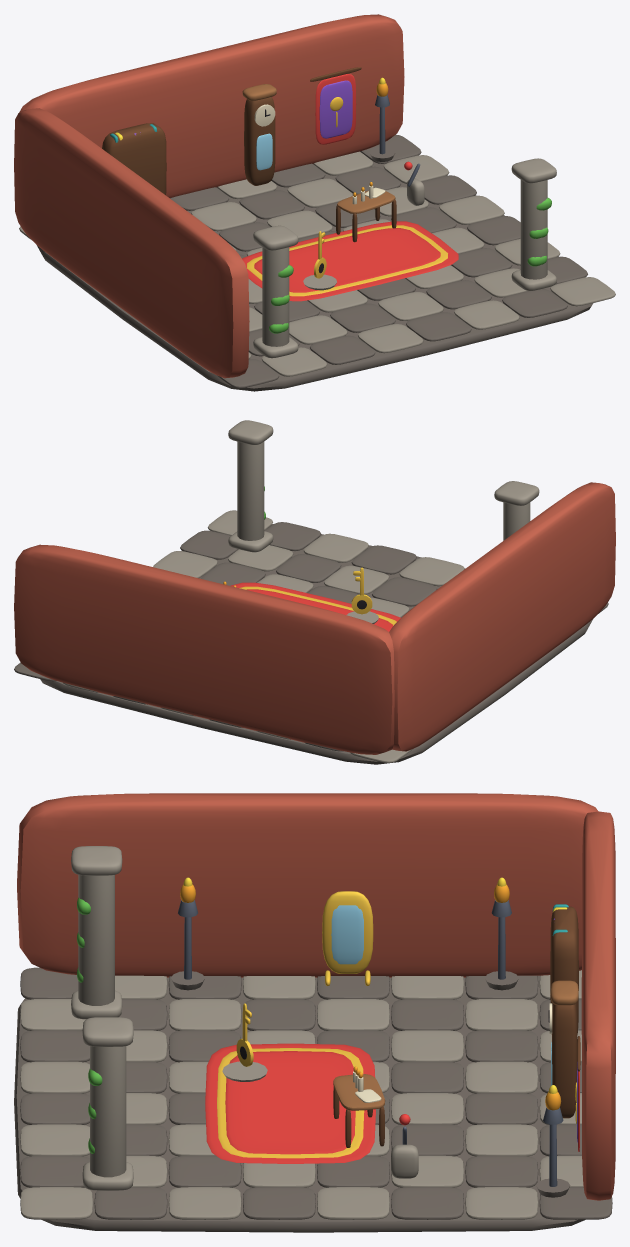
Rendered from Diorama_Escape.fbx.
The picture shows the model from 3 angles, top to bottom: view 1: azimuth 30°, elevation 25°; view 2: azimuth 150°, elevation 25°; view 3: azimuth 270°, elevation 25°; orthographic projection. The views are drawn at different scales.
Parts seen in each view (by area): view 1: Suelo_Escape, Columna.001, Columna.002, Reloj.001, Estanteria.001, Tapiz.001, MesaVelas.001, Llave.001, Antorcha.002, Palanca.001; view 2: Suelo_Escape, Columna.001, Columna.002, Llave.001; view 3: Suelo_Escape, Columna.001, Columna.002, Reloj.001, Estanteria.001, Espejo.001, MesaVelas.001, Espejo_Brillo.001, Llave.001, Antorcha.002, Antorcha.001, Antorcha.003 (+1 smaller).
Part boxes in pixels (box(x1,y1,x2,y2)): Suelo_Escape: box(14, 14, 615, 391); Columna.001: box(511, 158, 556, 290); Columna.002: box(253, 225, 298, 358); Reloj.001: box(242, 84, 276, 185); Estanteria.001: box(102, 123, 166, 195); Tapiz.001: box(310, 67, 361, 144); MesaVelas.001: box(336, 185, 396, 242); Llave.001: box(303, 231, 336, 290); Antorcha.002: box(370, 94, 394, 161); Palanca.001: box(404, 161, 424, 205); Suelo_Escape: box(14, 482, 615, 764); Columna.001: box(228, 420, 273, 552); Columna.002: box(494, 481, 539, 540); Llave.001: box(346, 567, 378, 623); Suelo_Escape: box(14, 793, 615, 1232); Columna.001: box(82, 1017, 133, 1190); Columna.002: box(71, 846, 122, 1019); Reloj.001: box(548, 980, 578, 1118); Estanteria.001: box(550, 904, 578, 1034); Espejo.001: box(322, 891, 373, 985); MesaVelas.001: box(333, 1071, 385, 1147); Espejo_Brillo.001: box(331, 905, 363, 964); Llave.001: box(222, 1003, 267, 1081); Antorcha.002: box(536, 1107, 570, 1197); Antorcha.001: box(485, 900, 518, 990); Antorcha.003: box(171, 900, 204, 990).
Bounding box in the file's own units: 10.55 × 3.7 × 10.55.
Materials: 2 (2 with a texture image).
